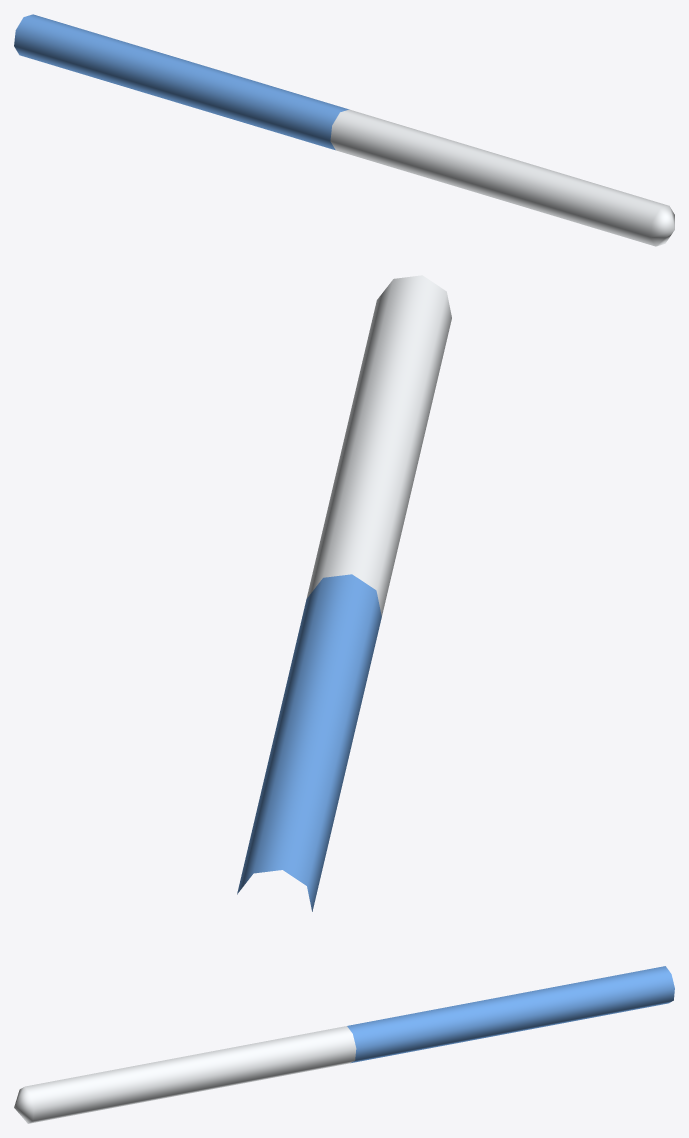
File: sigma_apap_N_H.glb
The picture shows the model from 3 angles, top to bottom: view 1: azimuth 30°, elevation 25°; view 2: azimuth 150°, elevation 25°; view 3: azimuth 270°, elevation 25°; orthographic projection. The views are drawn at different scales.
Visible parts, largest first — view 1: node-geom16.001, node-geom15.001; view 2: node-geom16.001, node-geom15.001; view 3: node-geom16.001, node-geom15.001.
Part boxes in pixels (x1,y1,x2,y2): node-geom16.001: [330, 109, 674, 246]; node-geom15.001: [14, 14, 349, 150]; node-geom16.001: [306, 275, 451, 616]; node-geom15.001: [237, 574, 381, 911]; node-geom16.001: [14, 1026, 356, 1123]; node-geom15.001: [347, 966, 674, 1063].
Size of the model in its own units: 0.4685 by 0.0574 by 0.9565.
